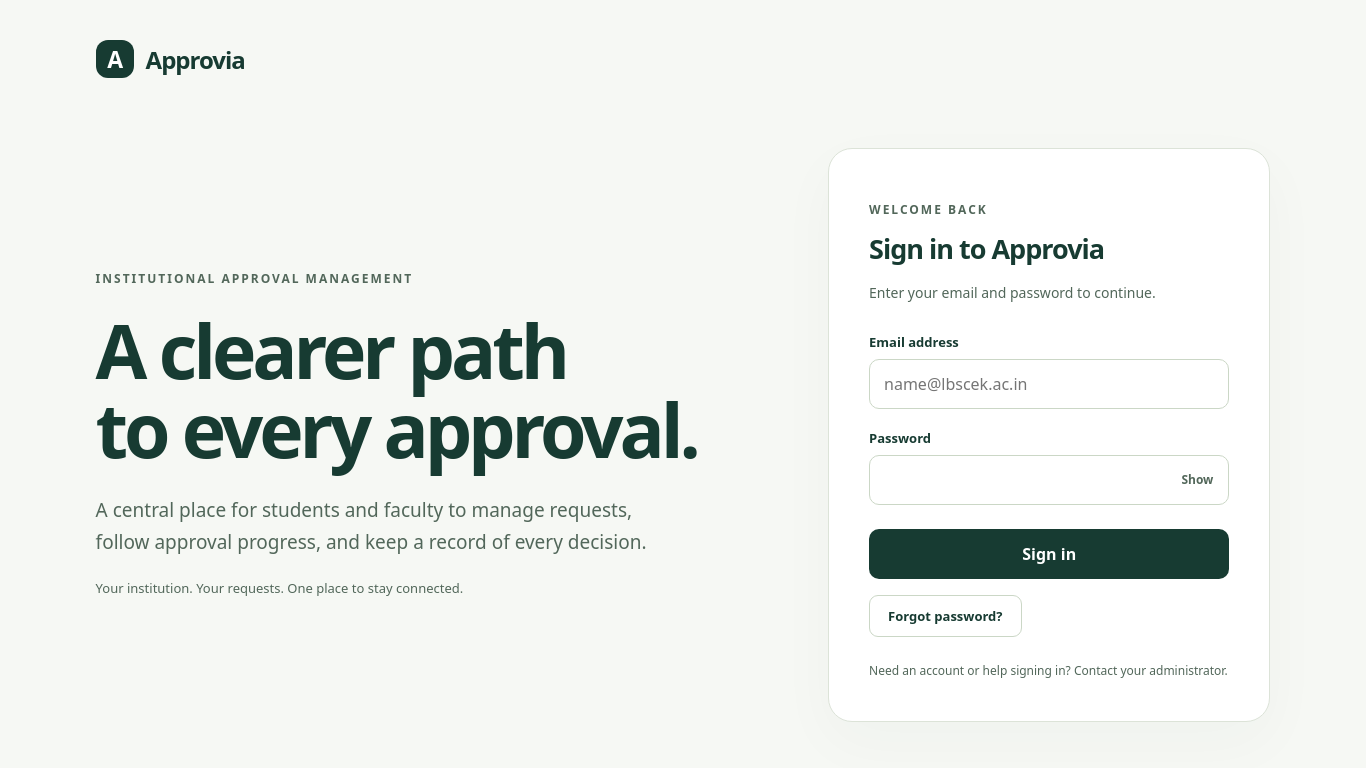
Scenario: email/password authentication › handles a network failure without leaving the form busy
The image size is (1366, 768).
expect the button "Sign in" is shown: met, box [869, 529, 1229, 579]
Type "student@example.edu" into the field labelled "Email address".
click(1049, 384); type("student@example.edu")  # box [869, 359, 1229, 409]
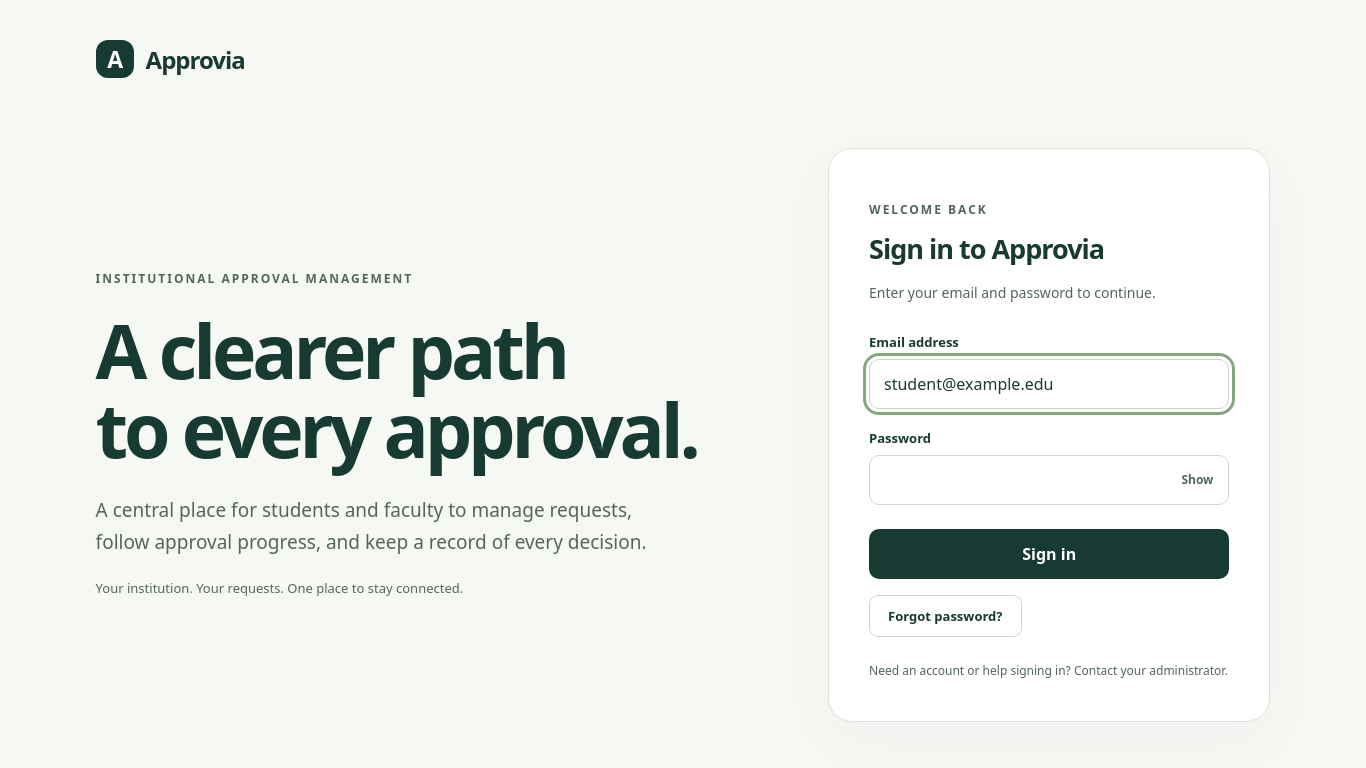
Type "example-password" into the password field labelled "Password".
click(1049, 480); type("example-password")  # box [869, 455, 1229, 505]
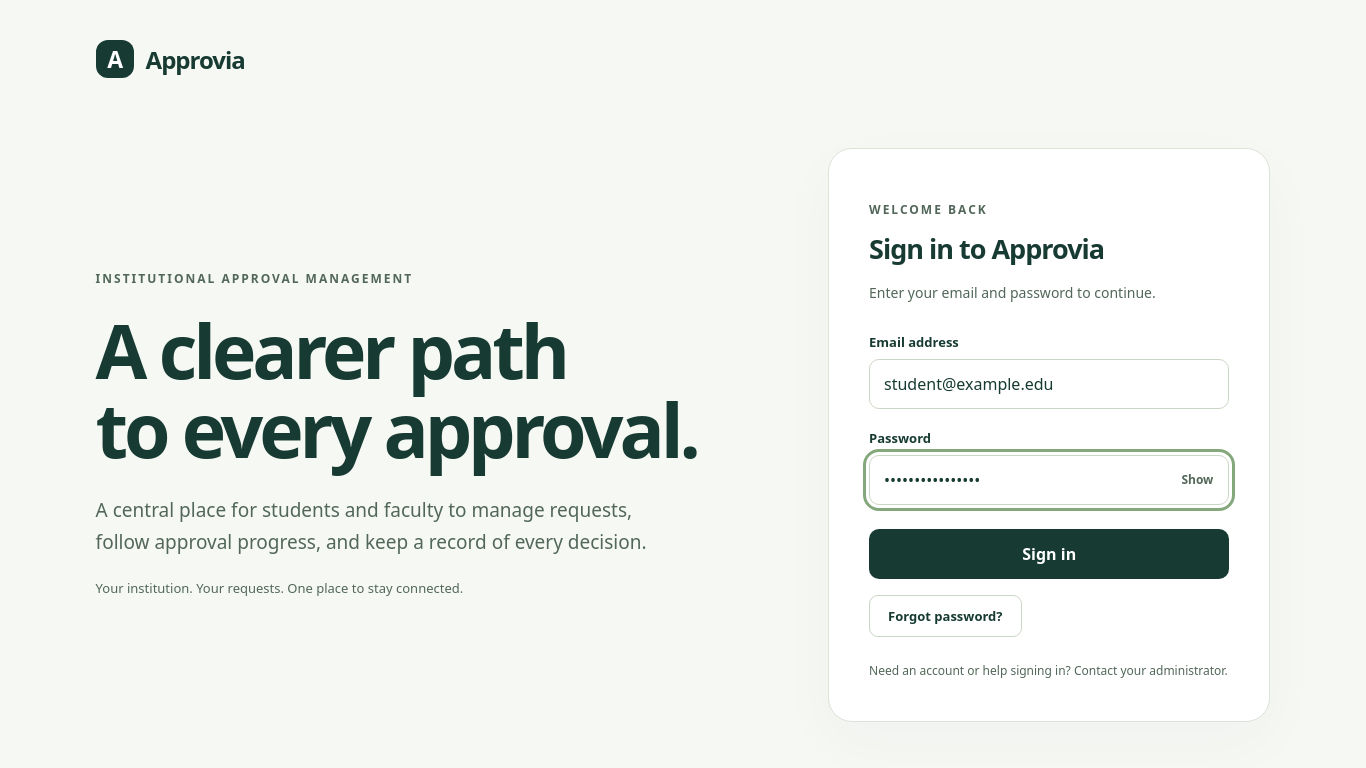
Click the button "Sign in".
click(1049, 554)  # box [869, 529, 1229, 579]
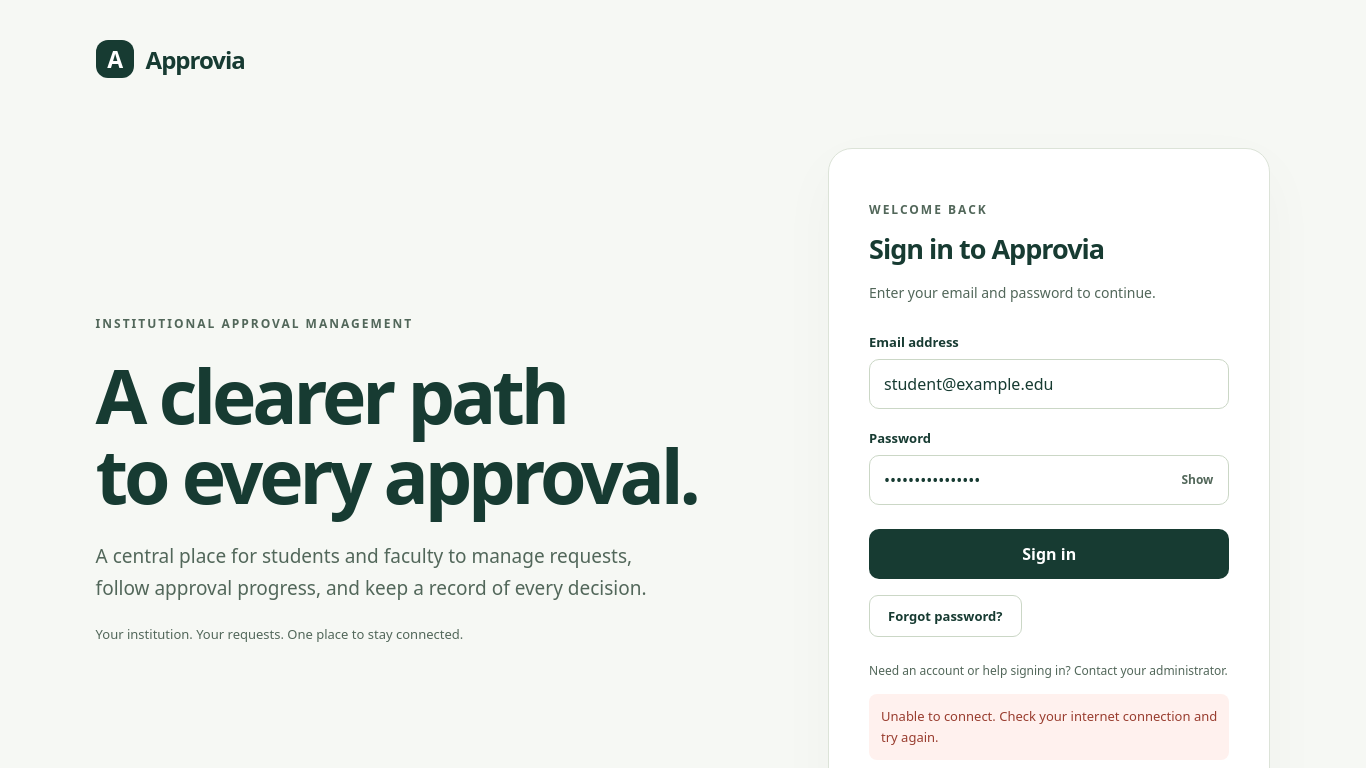
expect the message shows "Check your internet connection": met, box [881, 707, 1217, 746]
